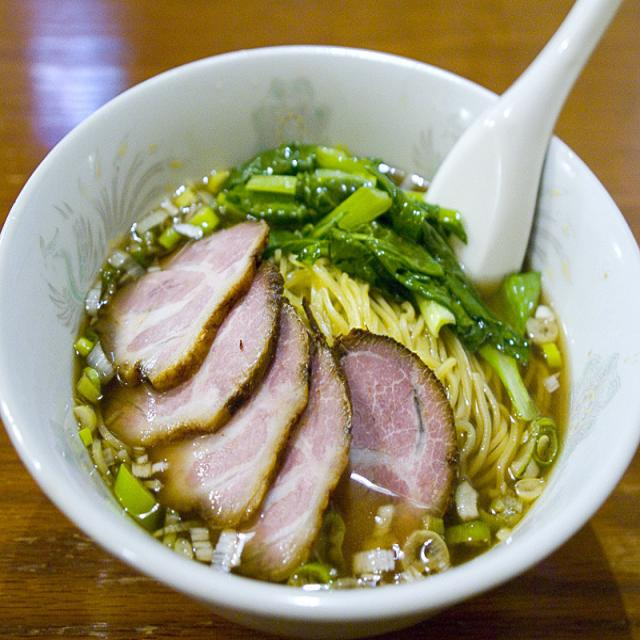面条主食: (65, 138, 574, 596)
